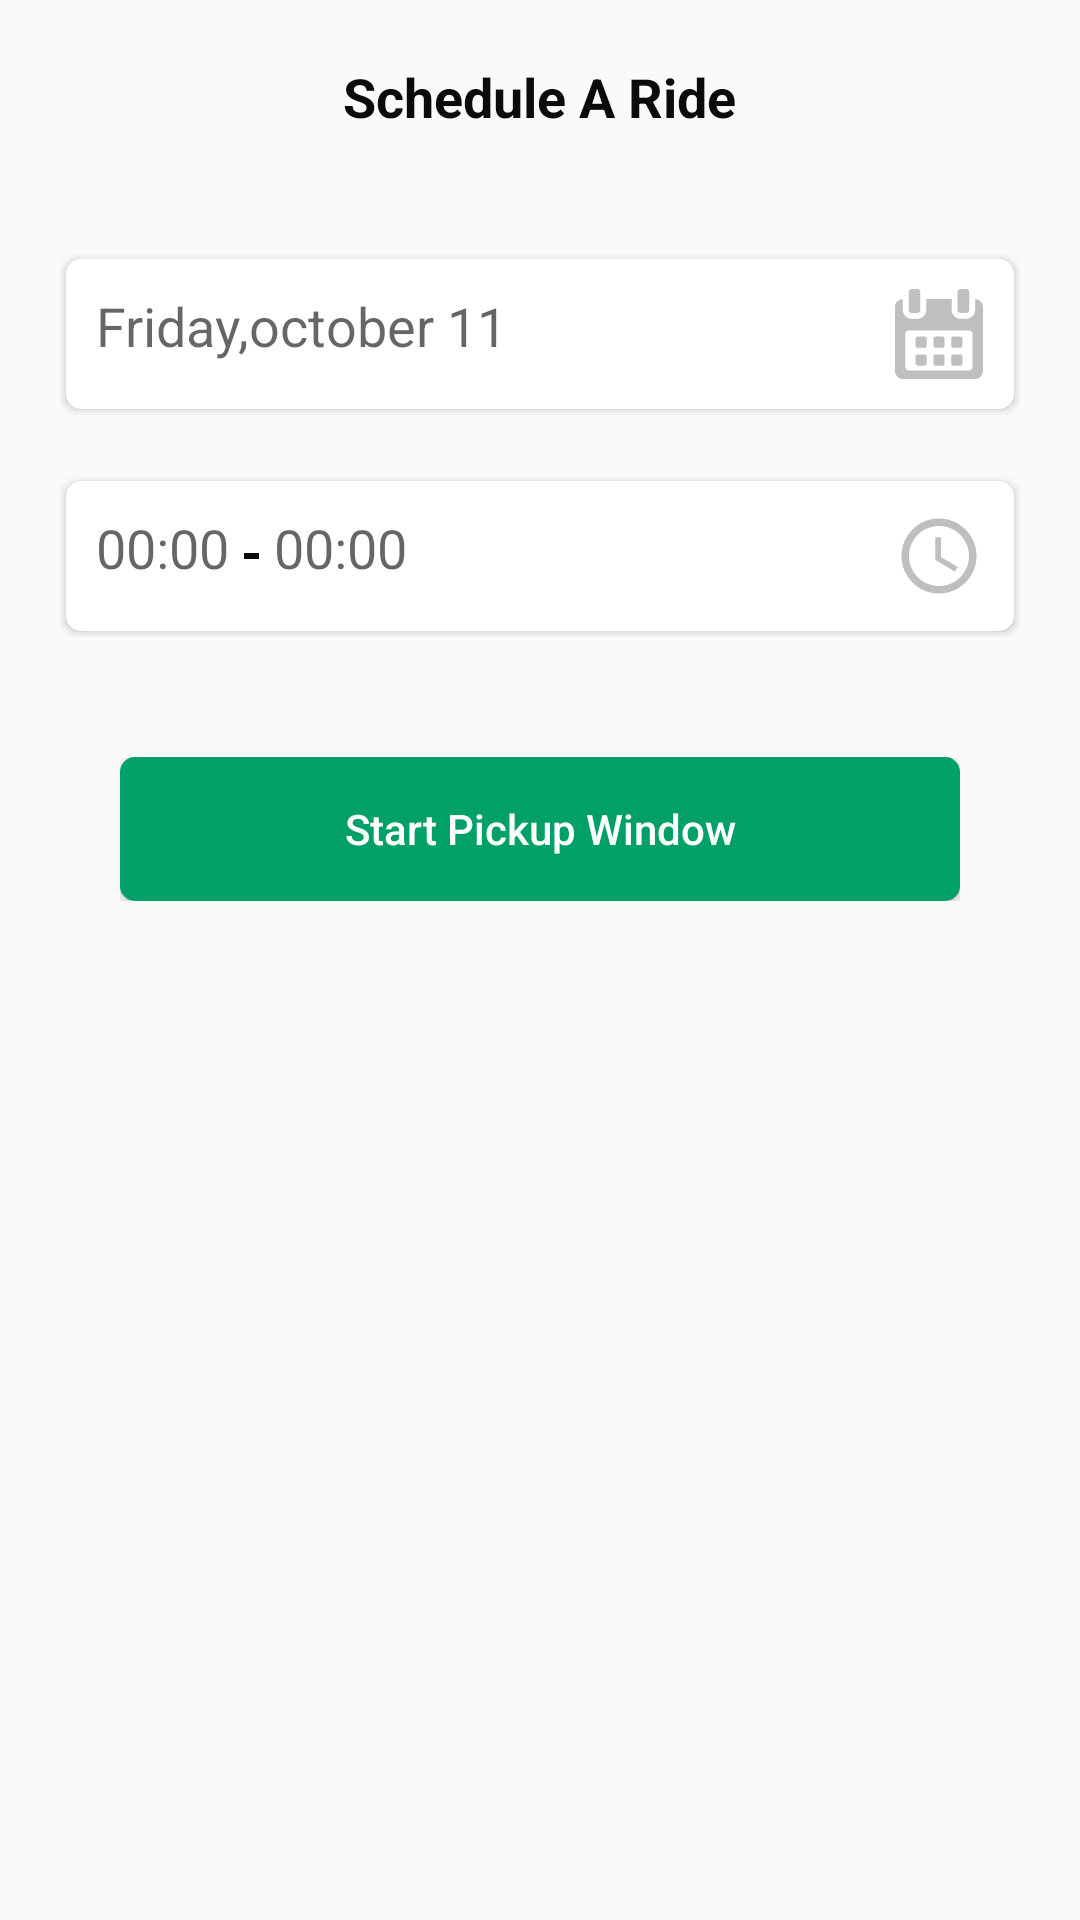

Locate icon controls on the screen. Image size 1080w x 1920h, boxes as (x1, y1, x2, y2).
access time: (901, 518, 977, 594)
calendar: (895, 289, 983, 379)
